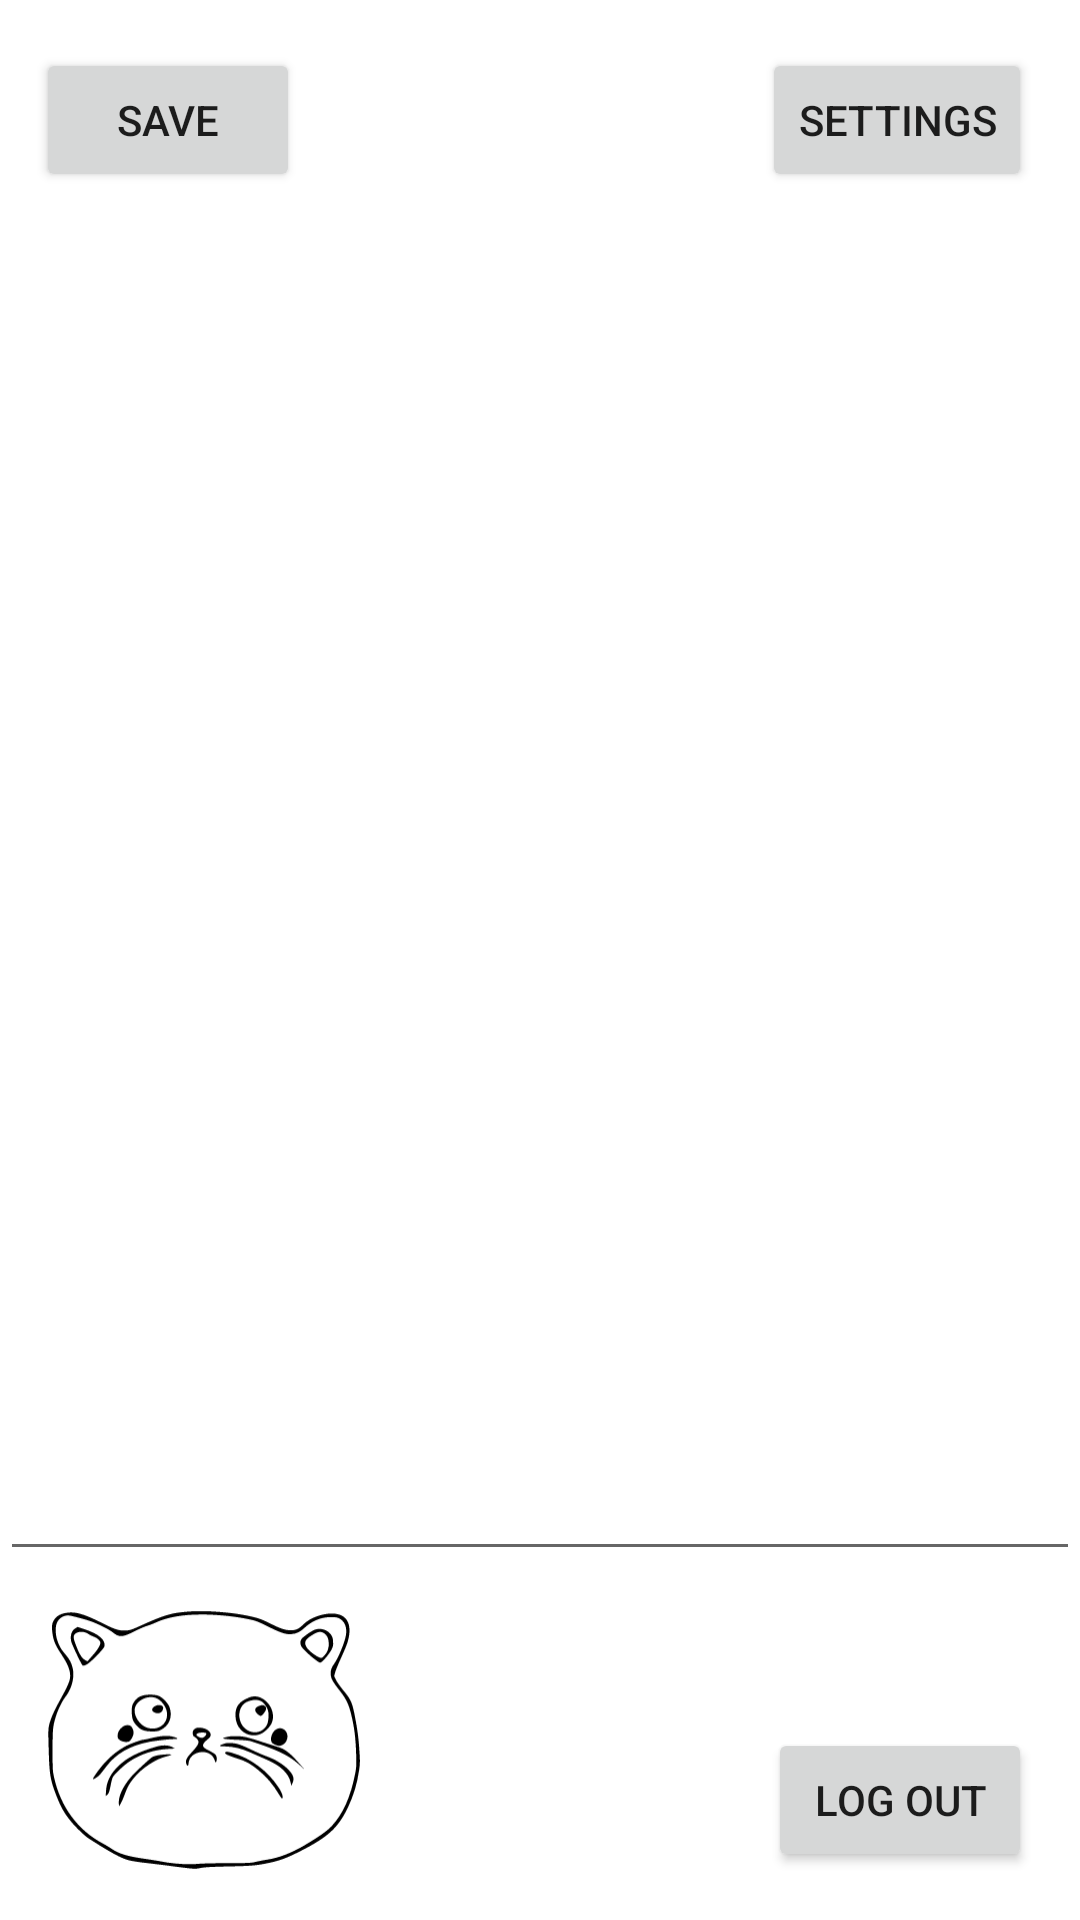

Icons on this 1080w x 1920h Android screen, each with its box as [x1,y1,x2,y2]:
cat: [48,1611,360,1869]
